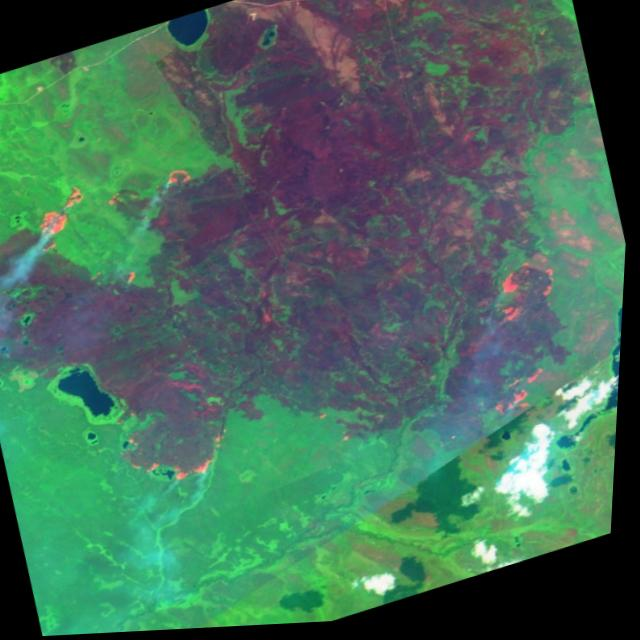fire: (453, 248, 594, 432), (106, 392, 254, 509), (4, 174, 107, 273), (98, 153, 212, 233), (306, 401, 373, 465), (86, 259, 148, 300)
